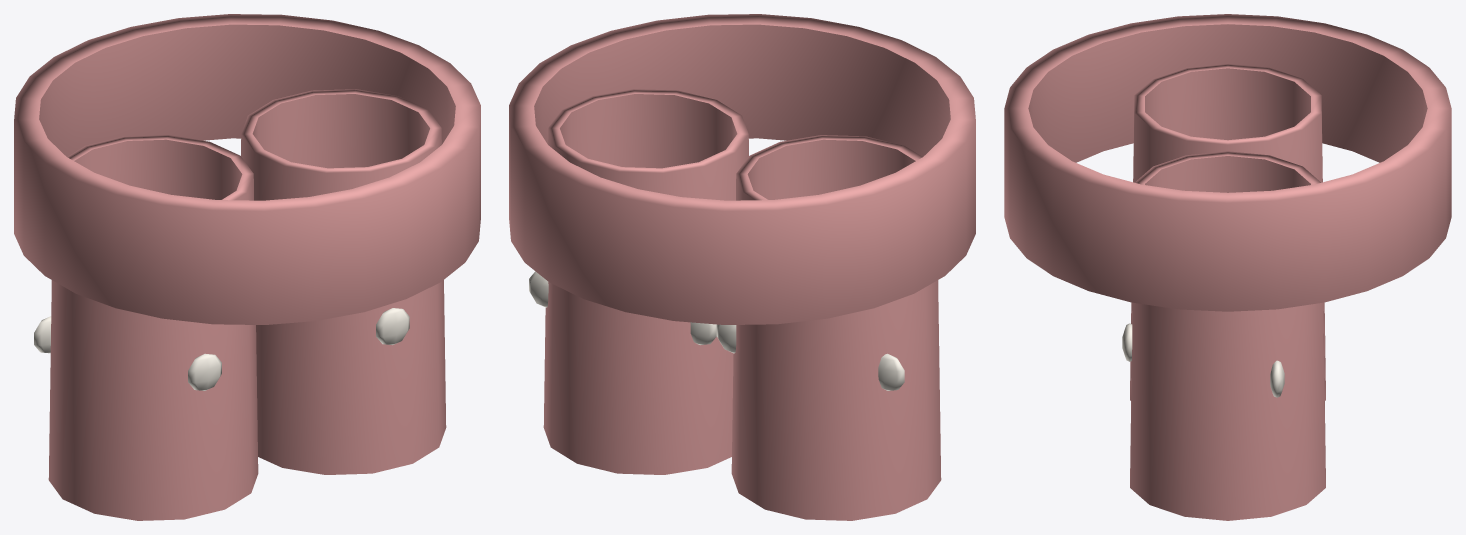
File: dreamy_pants.glb
3 renders of one model, left to right at view 1: azimuth 30°, elevation 25°; view 2: azimuth 150°, elevation 25°; view 3: azimuth 270°, elevation 25°, orthographic. The views are drawn at different scales.
Visible parts, largest first — view 1: dreamy_pants_Body, dreamy_pants_LegL, dreamy_pants_LegR; view 2: dreamy_pants_Body, dreamy_pants_LegL, dreamy_pants_LegR; view 3: dreamy_pants_Body, dreamy_pants_LegR, dreamy_pants_LegL.
Boxes of the visible parts, x1=… form: dreamy_pants_Body: x1=14, y1=14, x2=480, y2=324; dreamy_pants_LegL: x1=34, y1=135, x2=258, y2=520; dreamy_pants_LegR: x1=241, y1=89, x2=446, y2=474; dreamy_pants_Body: x1=509, y1=14, x2=975, y2=324; dreamy_pants_LegL: x1=716, y1=135, x2=941, y2=520; dreamy_pants_LegR: x1=529, y1=89, x2=748, y2=474; dreamy_pants_Body: x1=1004, y1=14, x2=1451, y2=311; dreamy_pants_LegR: x1=1122, y1=151, x2=1325, y2=520; dreamy_pants_LegL: x1=1130, y1=63, x2=1325, y2=400.
Bounding box in the file's own units: 0.41 × 0.33 × 0.41.
